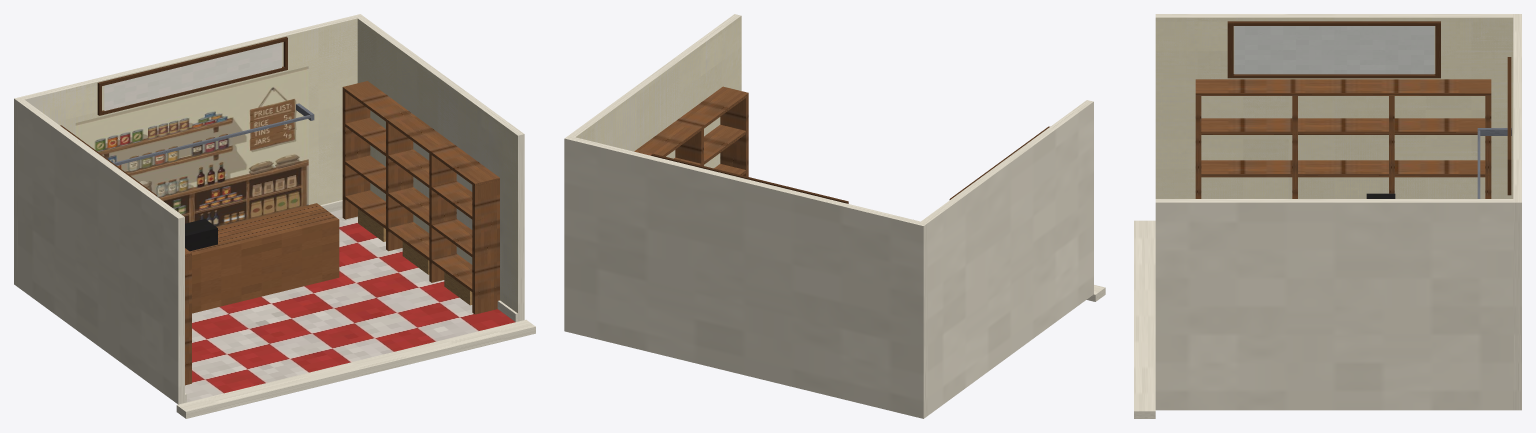
The model's file is shop-food.glb.
The picture shows the model from 3 angles, left to right: view 1: azimuth 30°, elevation 25°; view 2: azimuth 150°, elevation 25°; view 3: azimuth 270°, elevation 25°; orthographic projection. The views are drawn at different scales.
Visible parts, largest first — view 1: shop-food, shop_sign; view 2: shop-food; view 3: shop-food, photos_area.
Boxes of the visible parts, left/top/right/bottom form: shop-food: left=14, top=14, right=535, bottom=418; shop_sign: left=104, top=42, right=281, bottom=110; shop-food: left=564, top=14, right=1105, bottom=418; shop-food: left=1134, top=14, right=1521, bottom=418; photos_area: left=1234, top=26, right=1434, bottom=74.
Size of the model in its own units: 6.3 by 3.32 by 5.42.
Materials: 1 (1 with a texture image).
